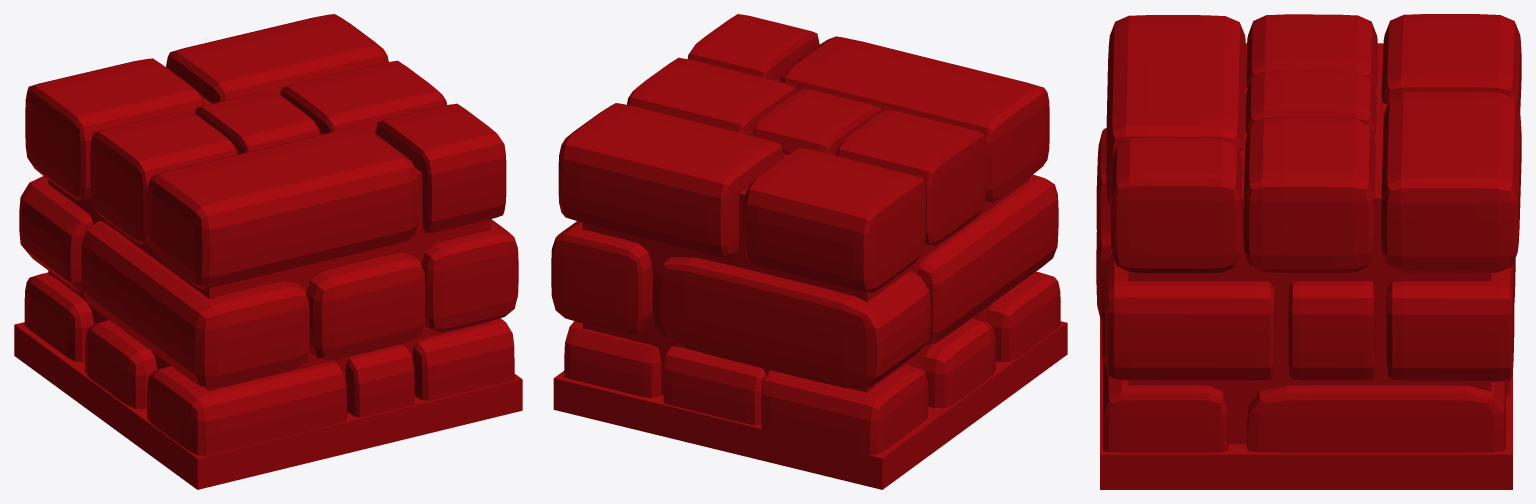
File: Brick.fbx
3 views of the same model, side by side, from view 1: azimuth 30°, elevation 25°; view 2: azimuth 150°, elevation 25°; view 3: azimuth 270°, elevation 25° (orthographic). The views are drawn at different scales.
Parts seen in each view (by area): view 1: Box001; view 2: Box001; view 3: Box001.
Part boxes in pixels (bbox=[...]): Box001: bbox=[14, 14, 522, 489]; Box001: bbox=[551, 14, 1067, 489]; Box001: bbox=[1096, 14, 1521, 489].
Bounding box in the file's own units: 98.79 × 78.38 × 97.95.
